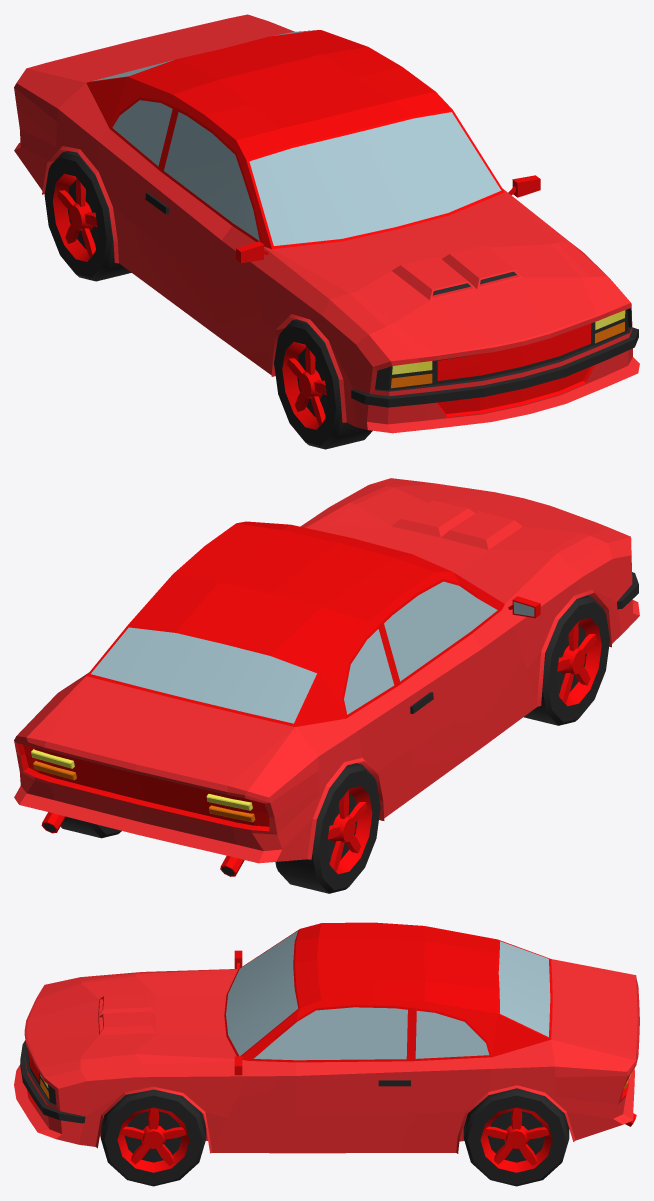
Rendered from N_Muscle Car_10.fbx.
3 renders of one model, top to bottom at view 1: azimuth 30°, elevation 25°; view 2: azimuth 150°, elevation 25°; view 3: azimuth 270°, elevation 25°, orthographic. The views are drawn at different scales.
Visible parts, largest first — view 1: N_Muscle Car_10 FL Tire; view 2: N_Muscle Car_10 FL Tire; view 3: N_Muscle Car_10 FL Tire.
Part boxes in pixels (x1=…): N_Muscle Car_10 FL Tire: x1=14, y1=14, x2=639, y2=449; N_Muscle Car_10 FL Tire: x1=14, y1=478, x2=639, y2=893; N_Muscle Car_10 FL Tire: x1=14, y1=922, x2=639, y2=1186.
Size of the model in its own units: 203 by 144 by 464.
1 material, 1 textured.
